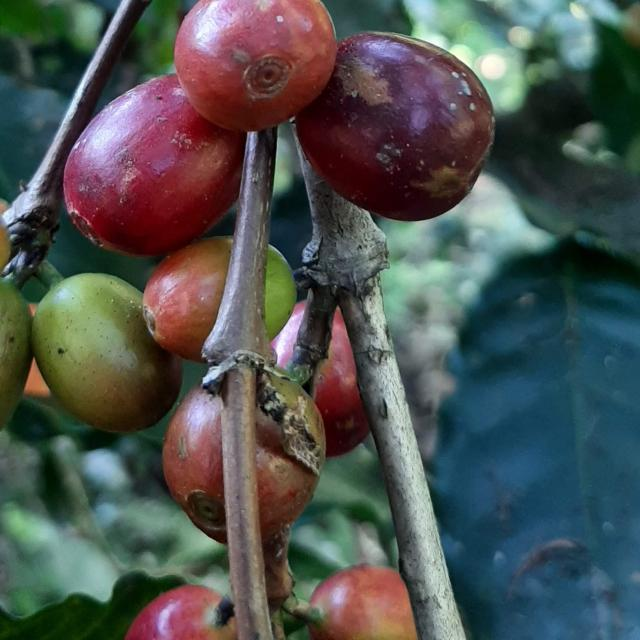red: (296, 31, 495, 220), (63, 75, 245, 256), (174, 0, 337, 131), (313, 309, 370, 458), (124, 586, 236, 640), (271, 301, 306, 368)
yellow: (31, 274, 182, 433), (142, 237, 232, 362), (162, 386, 226, 544), (256, 409, 318, 542), (309, 566, 418, 640), (265, 246, 296, 340)
